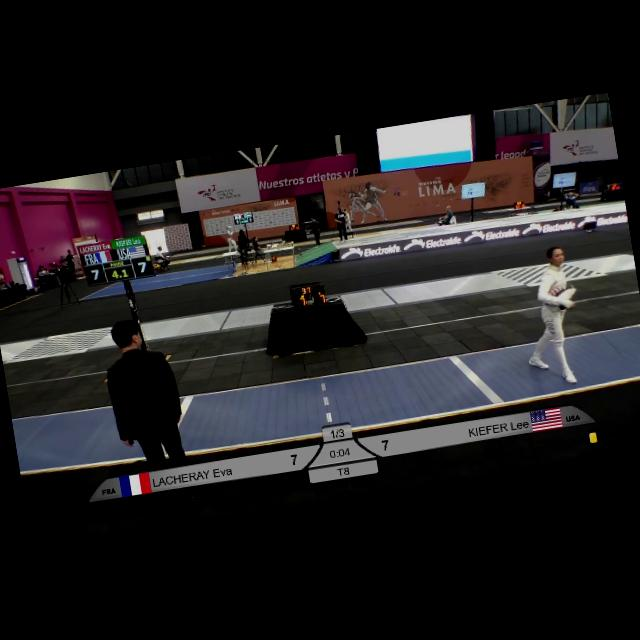blade: (568, 294, 624, 364)
